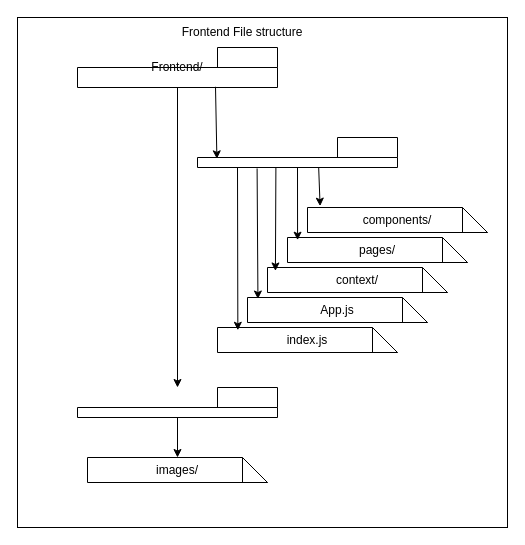
This 525x545 diagram has some shape labels left out. Here are the shapes that lost their labels. From the top down, the box of each, then its label:
(196, 136, 398, 168): src/
(76, 386, 278, 418): public/
